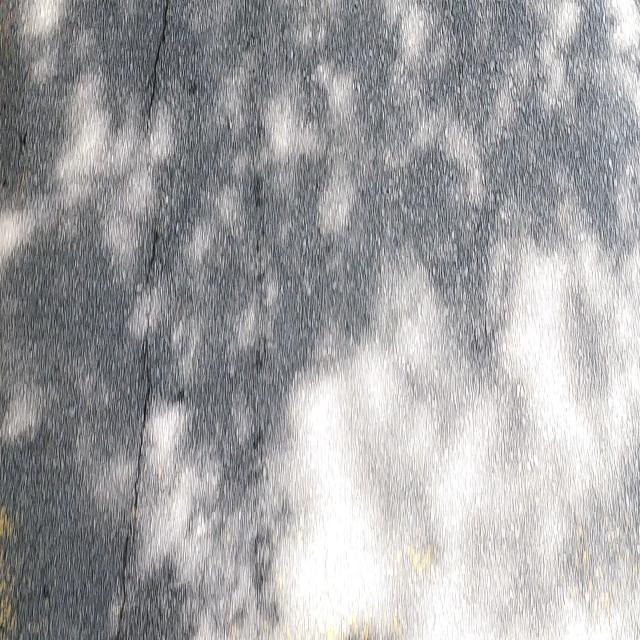Retak-Memanjang: (109, 226, 164, 640), (142, 3, 173, 127)
